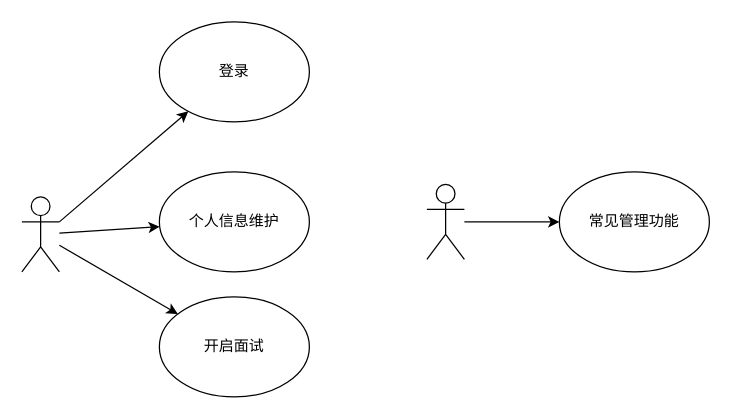
Some shapes in this 731 by 419 pixel diagram are drawn without their labels. Each missing label, with the centre of its shape:
"用户" belongs at [40,234].
"管理员" belongs at [445,221].
